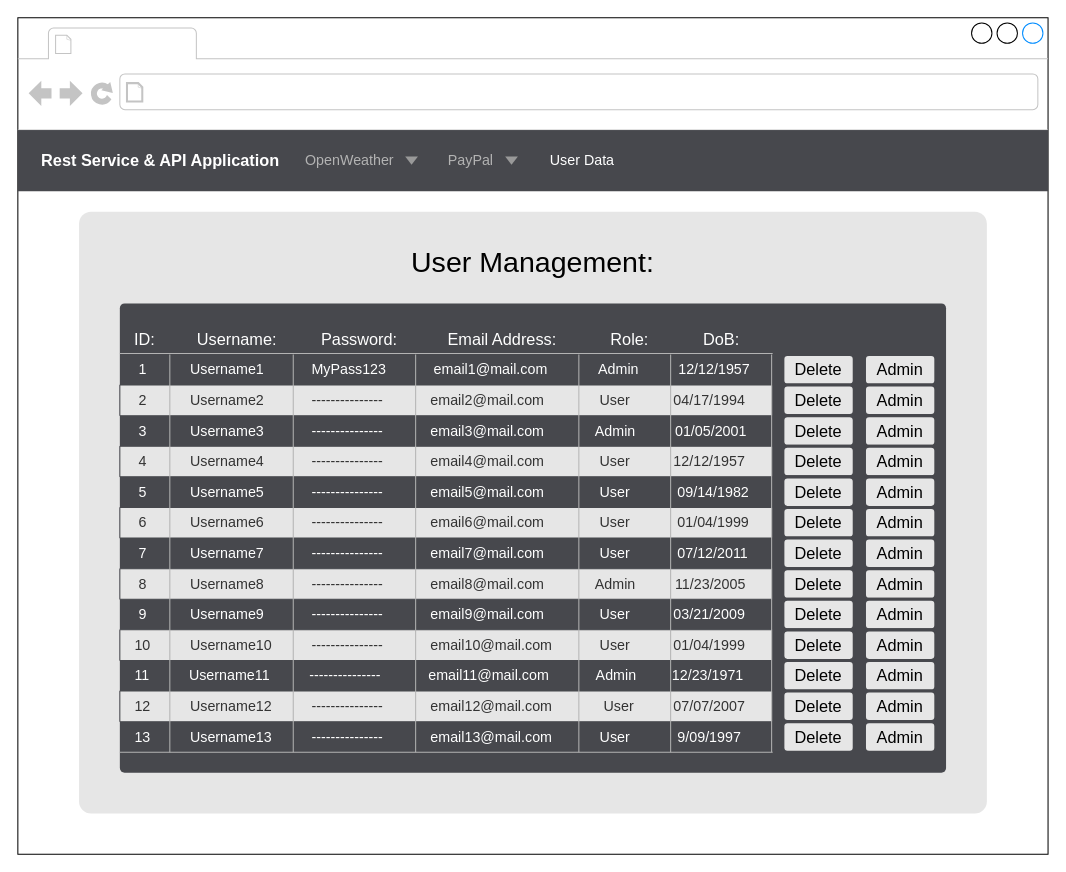
This 1066x872 diagram has some shape labels left out. The shapes that lost their labels are listed below. From the top down, each one's centre as x and y in pixels, then its label:
[134,43]: View Users
[328,92]: http://localhost:60154/User/UserManagement
